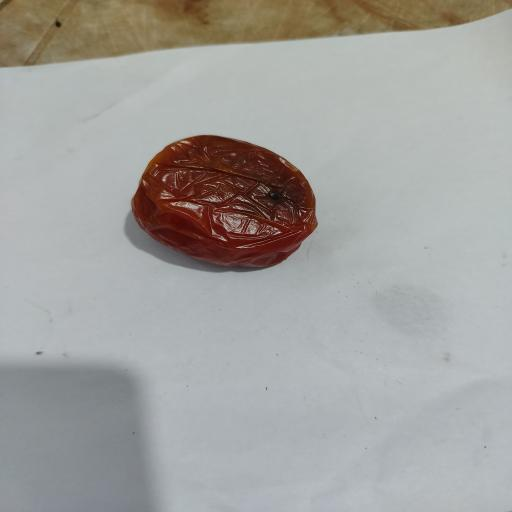spoiled: (132, 135, 317, 267)
